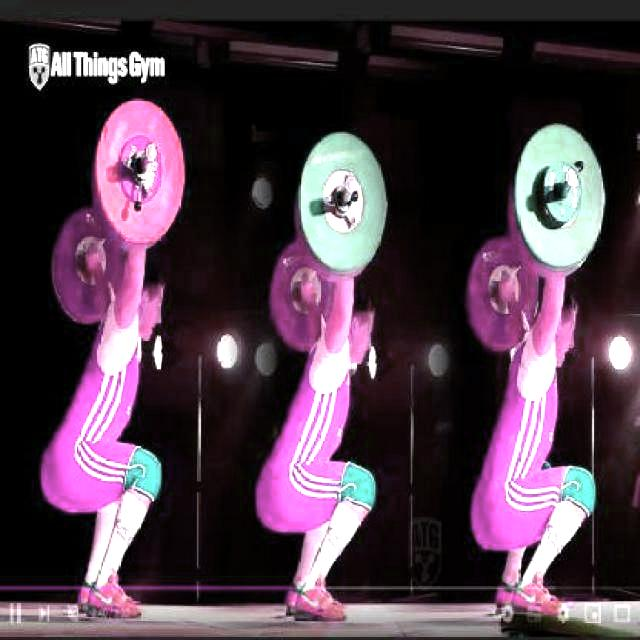barbell: (292, 123, 394, 287), (512, 115, 610, 276), (91, 91, 192, 246)
